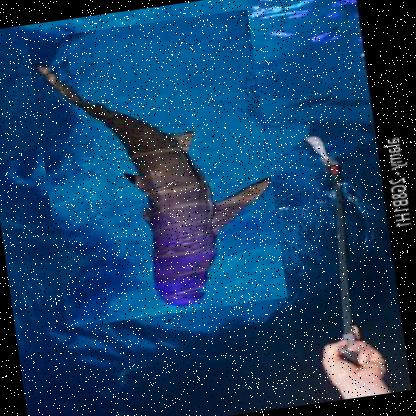zebra_shark: (27, 7, 288, 328)
